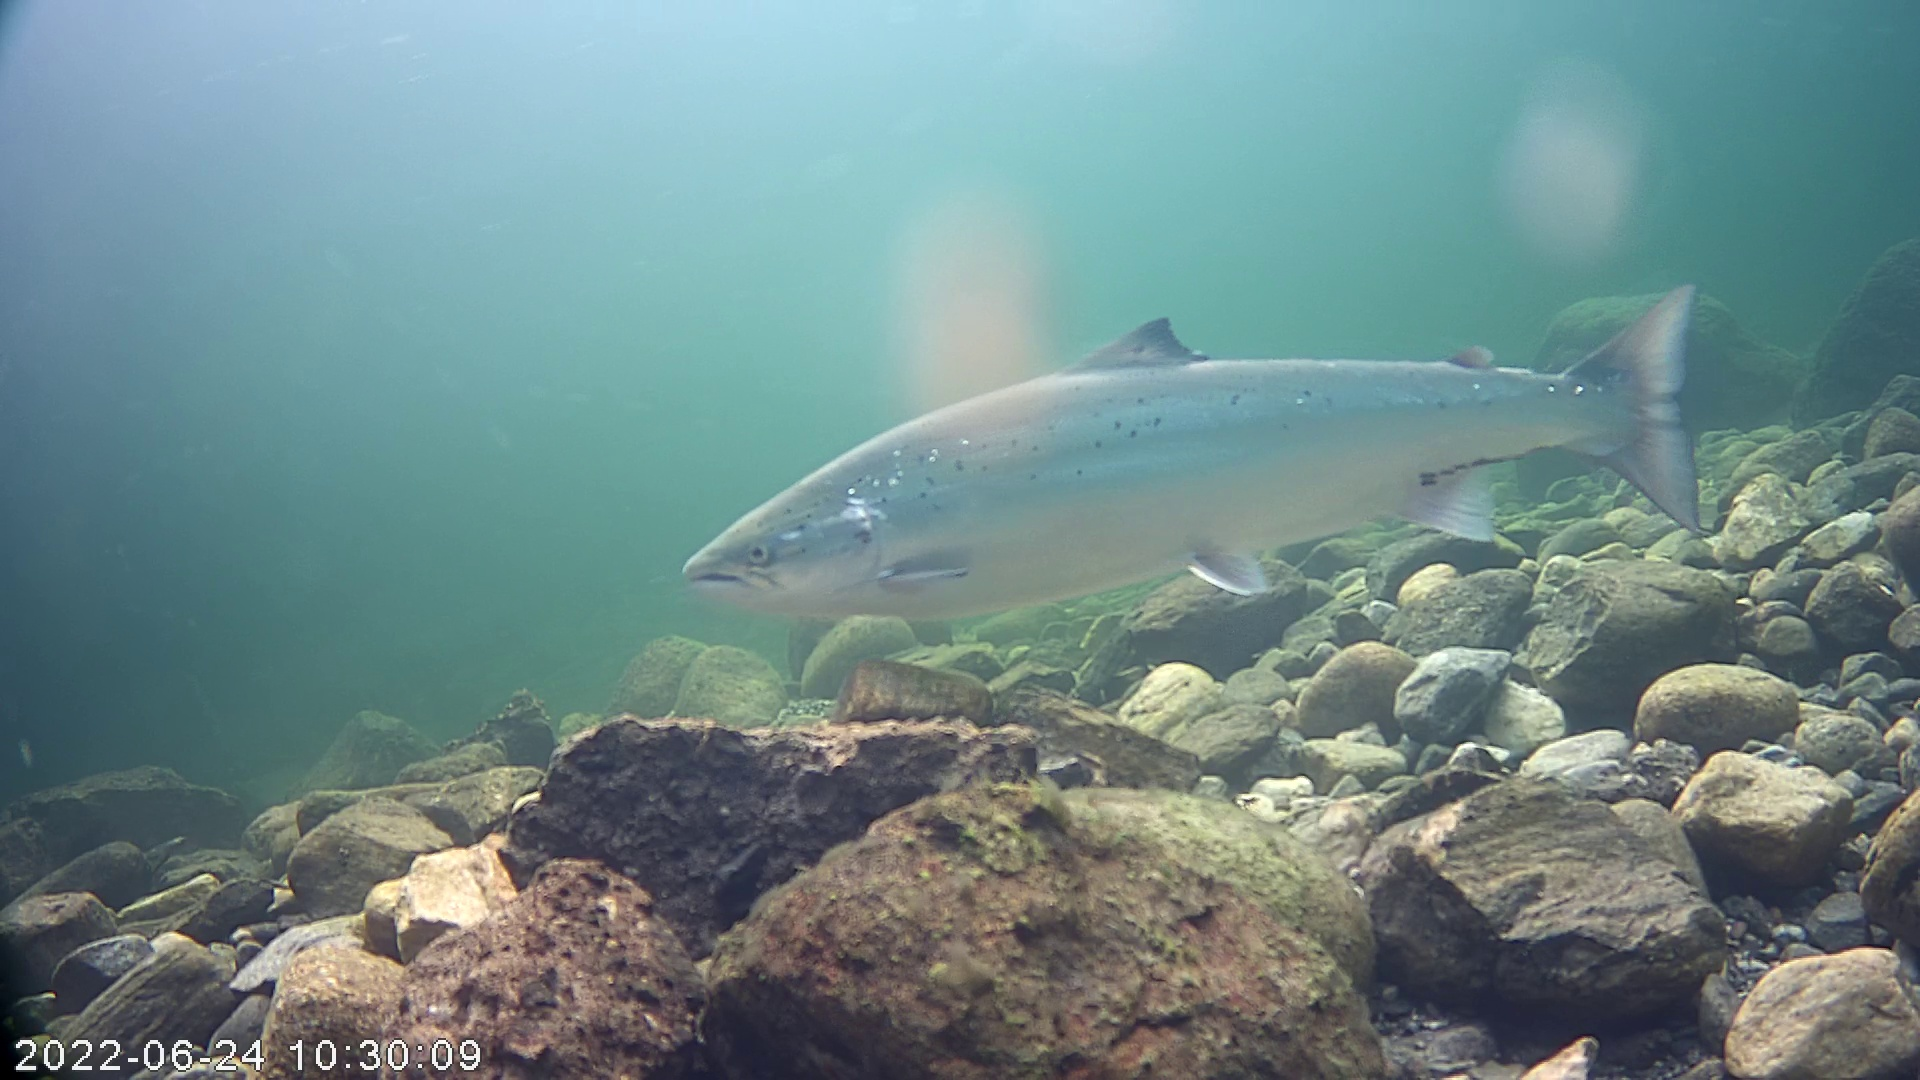salmon: (678, 278, 1708, 626)
